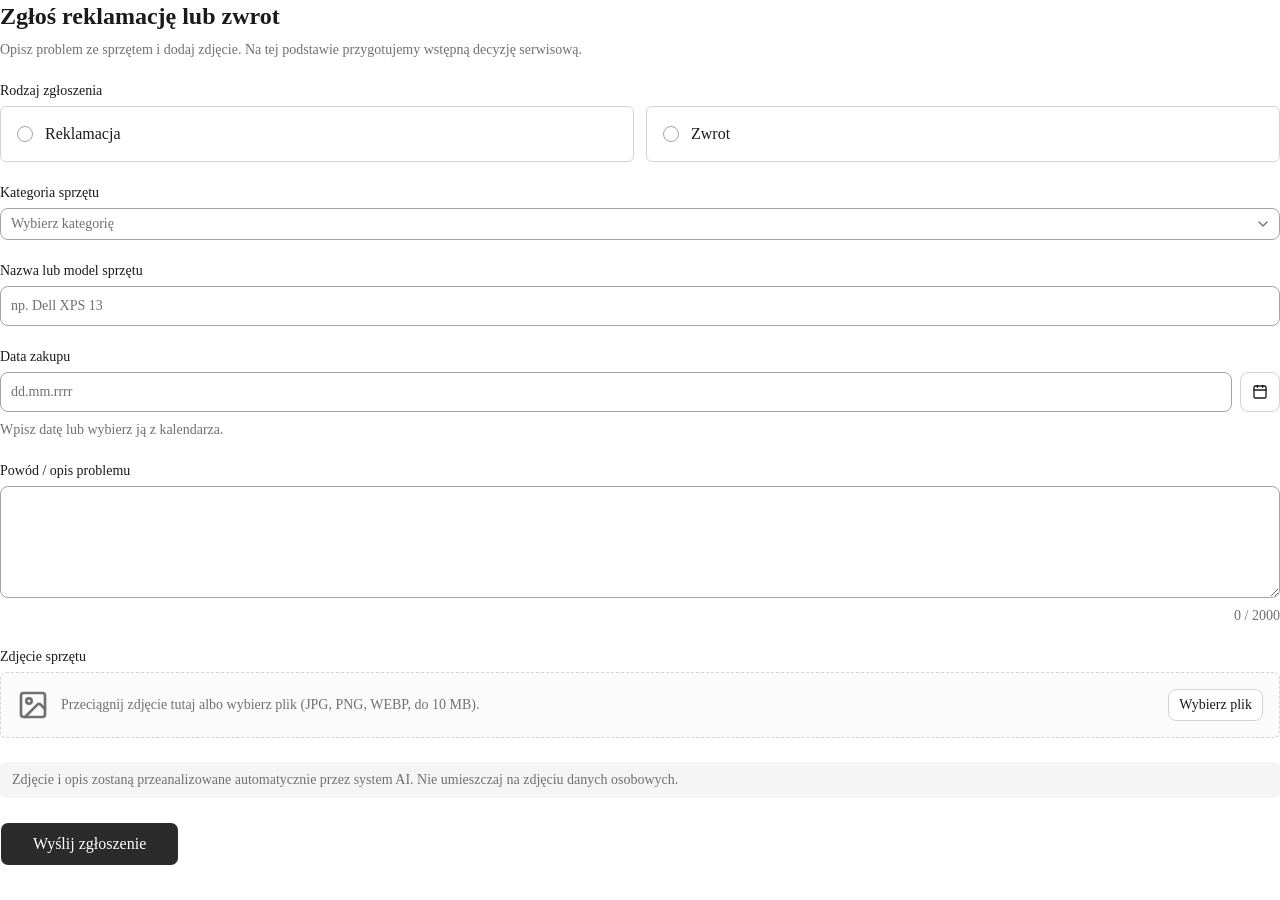
CaseForm validation messages (AC-04..AC-07) › disables calendar days outside the allowed range and fills the field from a pick
Click the button named "Otwórz kalendarz": x=1260, y=392 [1240,372,1279,412]
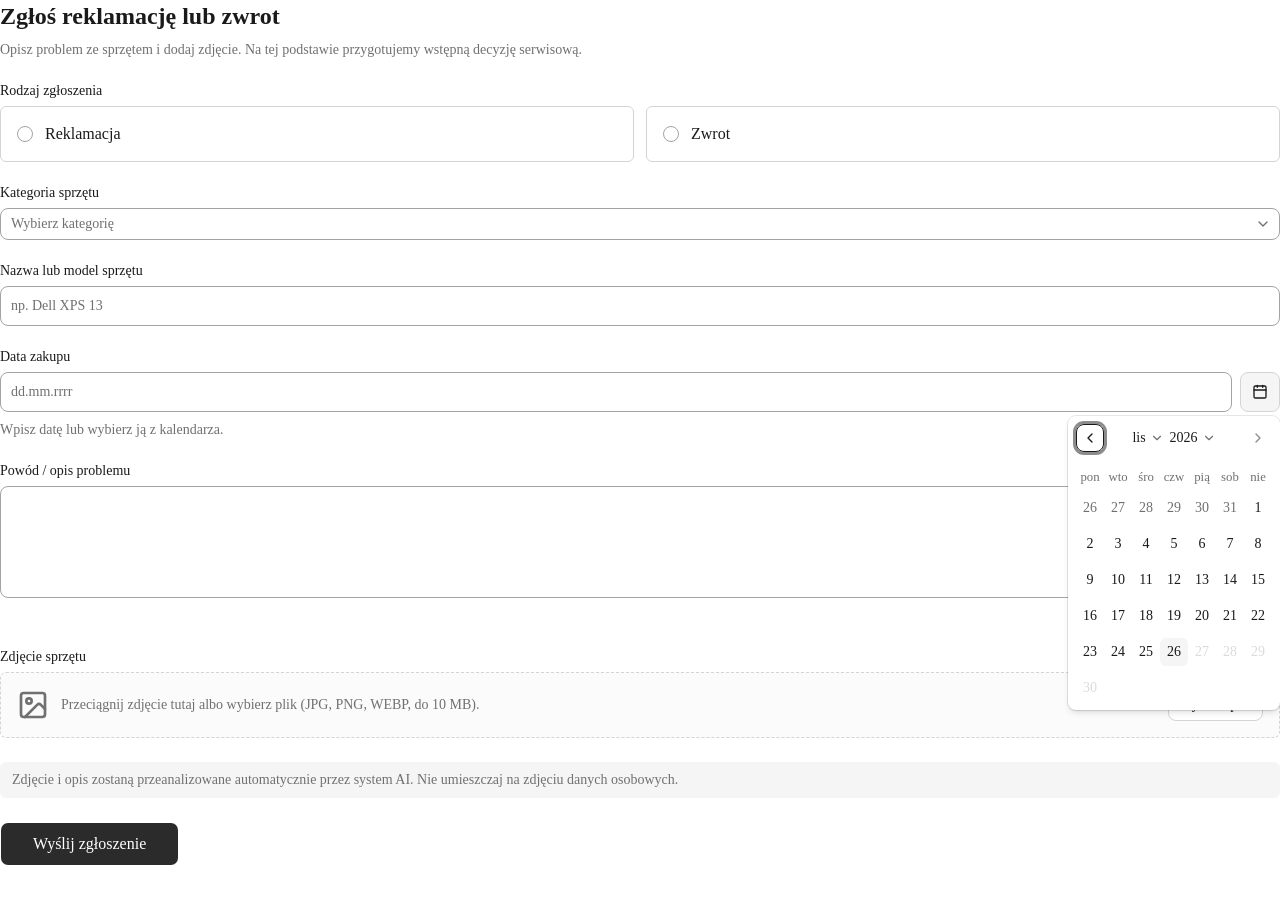
expect the 2nd button "27" is disabled: met, box [1188,638,1216,666]
Click the button "20": x=1202, y=616 [1188,602,1216,630]
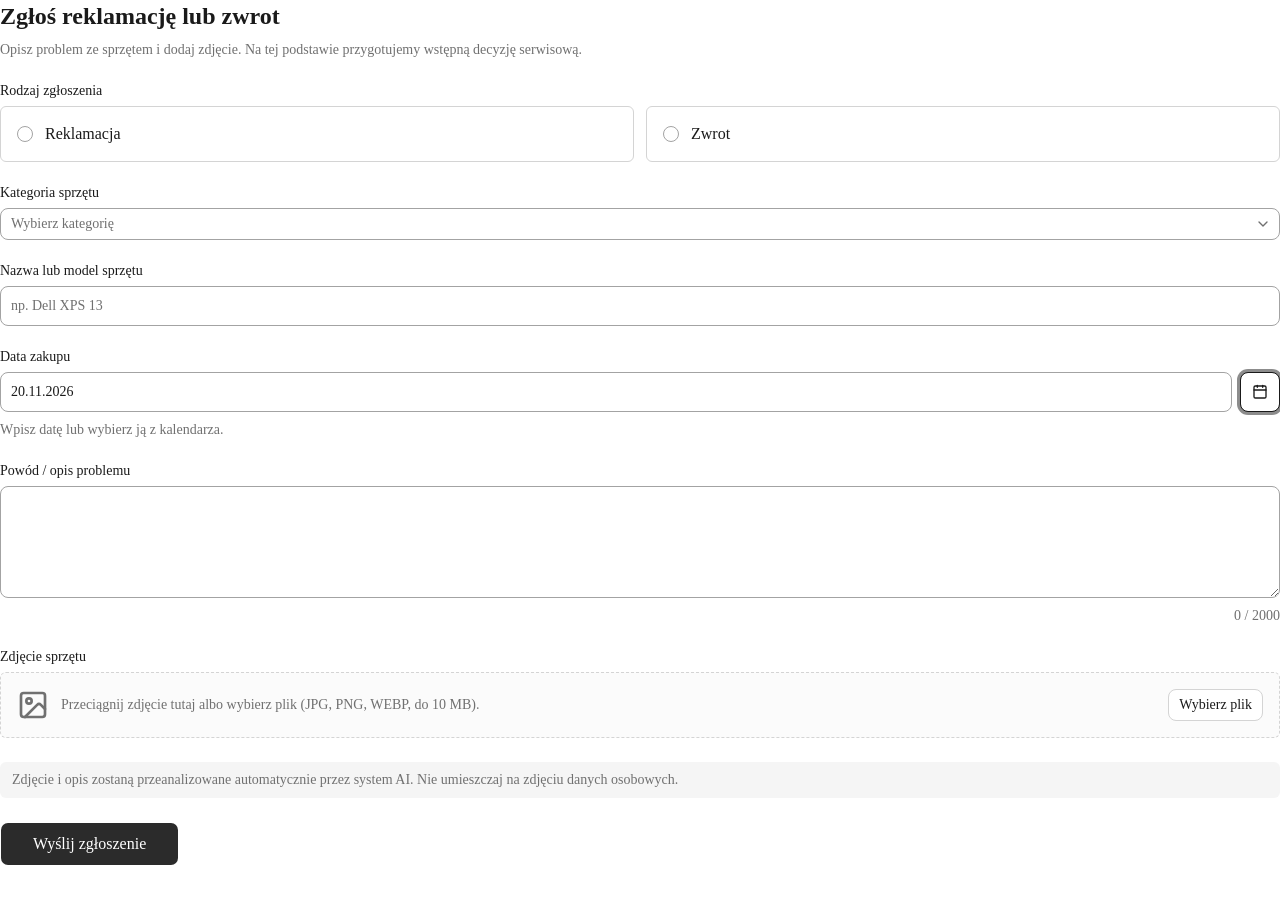
expect the field labelled "Data zakupu" holds "20.11.2026": met, box [0,372,1232,412]
